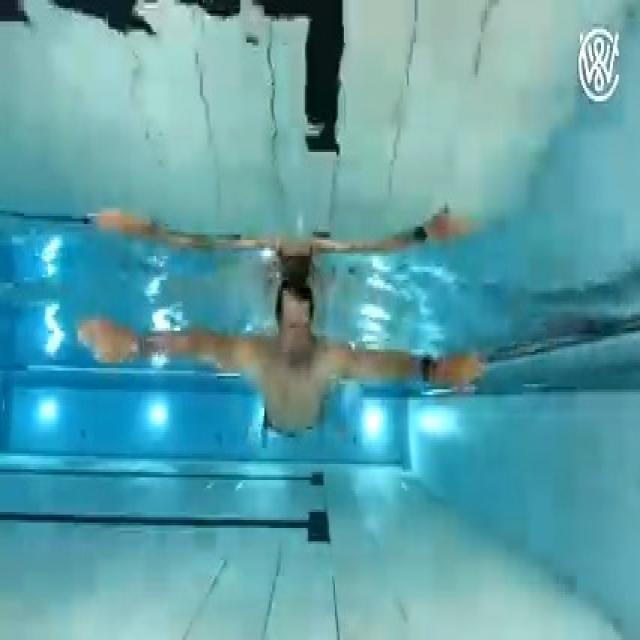Swimming: (79, 266, 488, 431)
